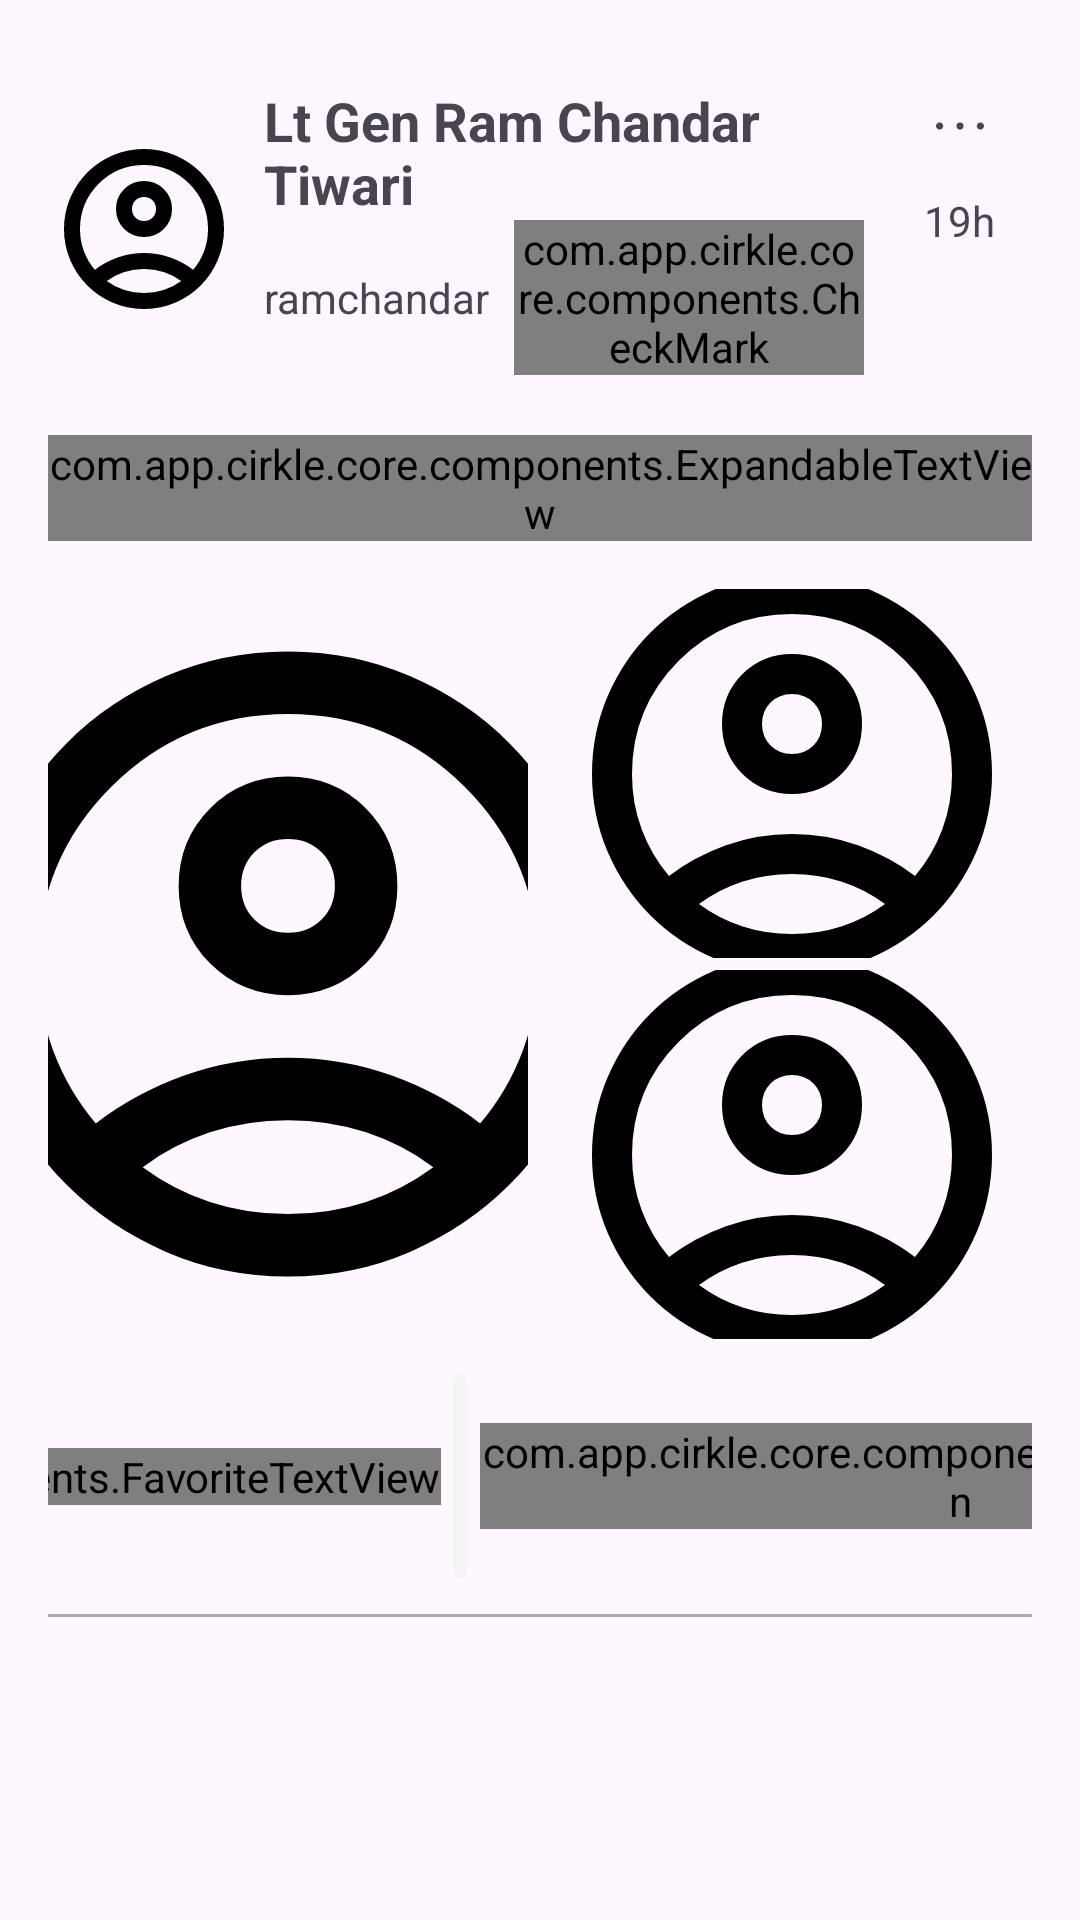

Icon bounding boxes for this 1080x1920 phone screenshot, format [x1, y1, x2, y2]:
more vert: [936, 122, 984, 130]
